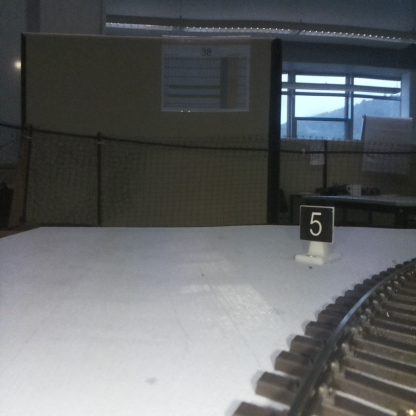black-stop-5: (299, 206, 333, 262)
